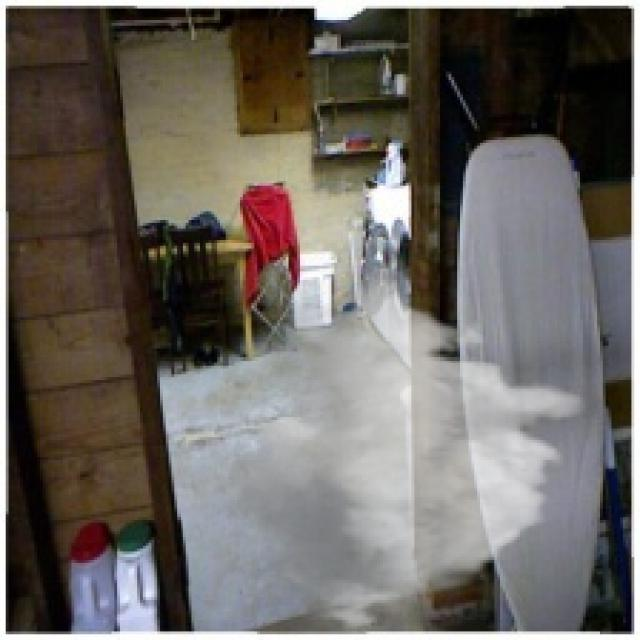smoke: (212, 266, 592, 634)
